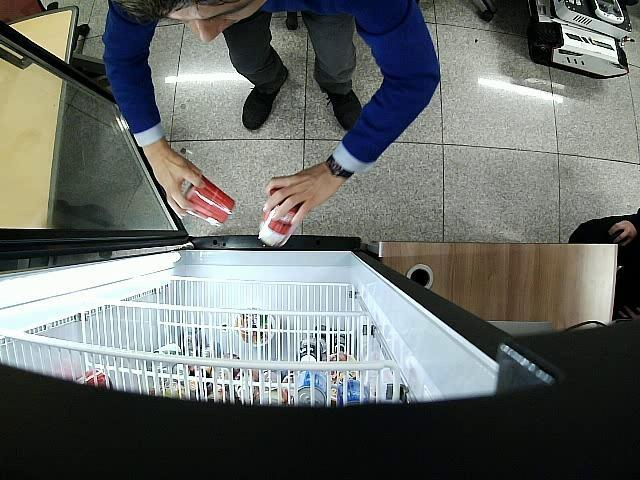02_shinRamen_S: (183, 174, 234, 228), (258, 188, 300, 246)
